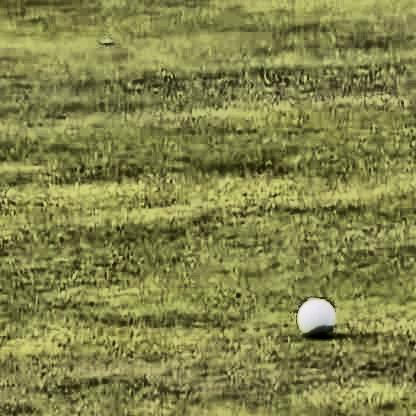golfball: (293, 295, 335, 334)
